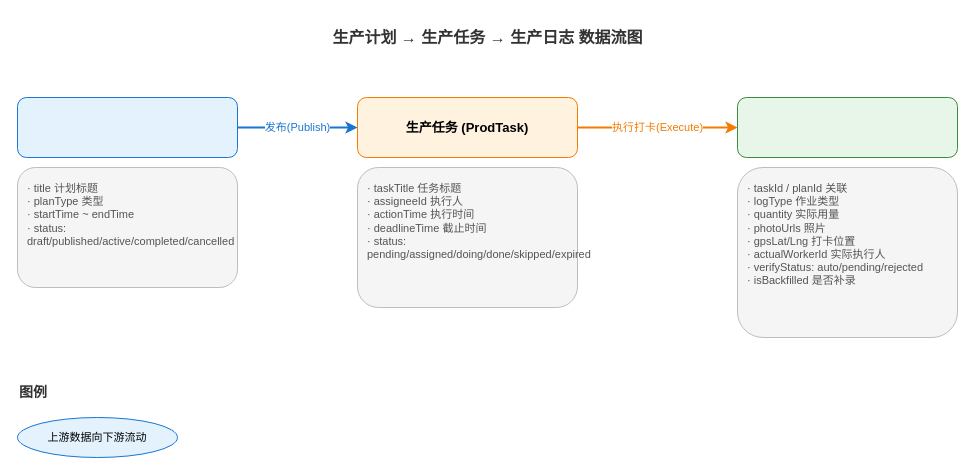
This 975x475 diagram has some shape labels left out. Each missing label, with the centre of its shape:
生产日志 (ProdLog): [847,127]
生产计划 (ProdPlan): [127,127]
